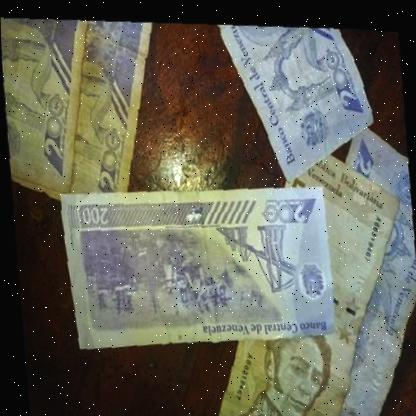five-front-vef: (181, 126, 416, 416)
ten-back-vef: (264, 110, 416, 416), (0, 4, 173, 211), (215, 14, 381, 188), (0, 10, 99, 198)
two_hundred-back-vef: (54, 166, 341, 365)
